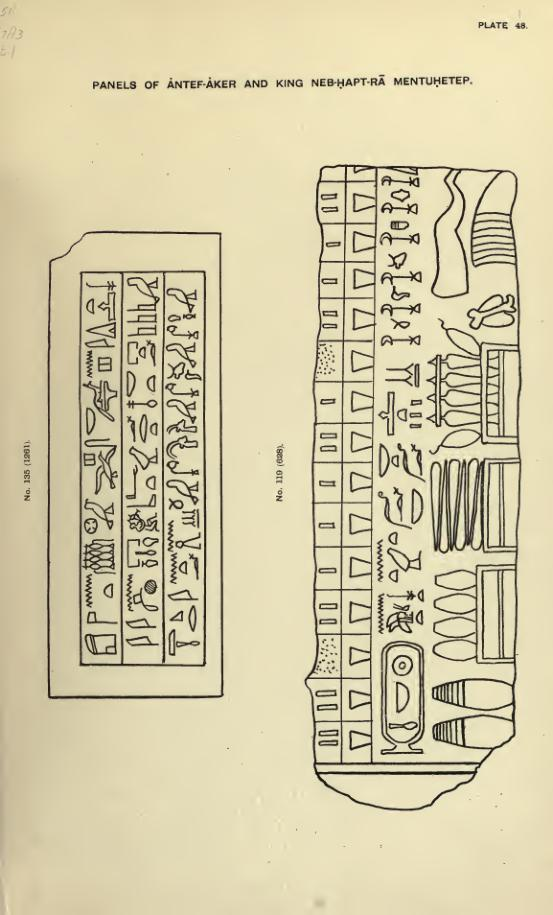circle: (377, 639, 429, 758)
